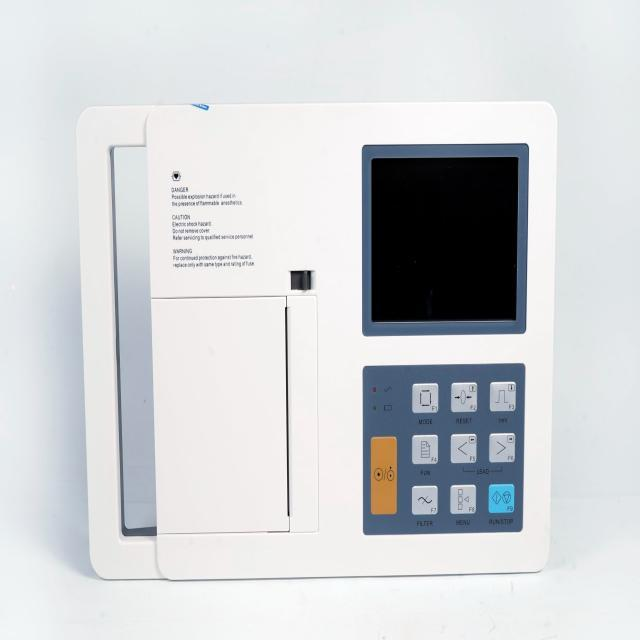Monitor: (70, 96, 558, 581)
